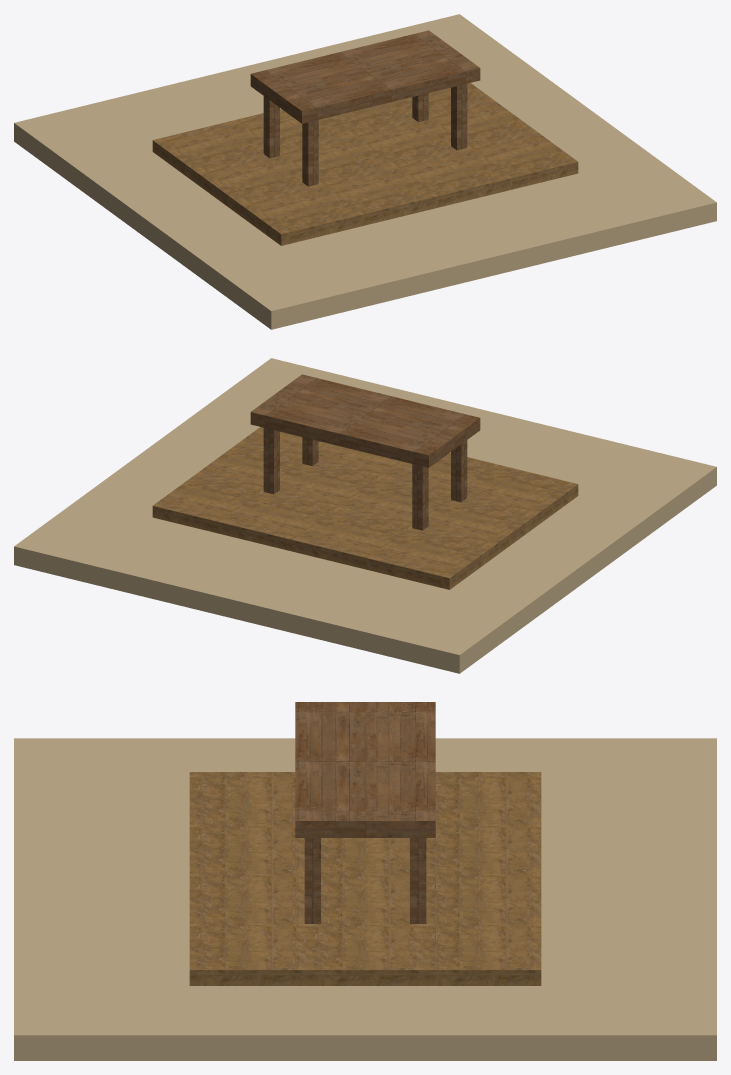
The model's file is tribunal.glb.
The picture shows the model from 3 angles, top to bottom: view 1: azimuth 30°, elevation 25°; view 2: azimuth 150°, elevation 25°; view 3: azimuth 270°, elevation 25°; orthographic projection. The views are drawn at different scales.
Visible parts, largest first — view 1: Base ilustrativa, Estrado do tribunal, Tampo, Pé.003, Pé.001, Pé; view 2: Base ilustrativa, Estrado do tribunal, Tampo, Pé.002, Pé, Pé.001; view 3: Base ilustrativa, Estrado do tribunal, Tampo, Pé.002, Pé.003.
Boxes of the visible parts, x1,y1,x2,y2 form: Base ilustrativa: (14,14,716,329); Estrado do tribunal: (152,83,578,245); Tampo: (250,30,480,123); Pé.003: (451,84,467,150); Pé.001: (302,120,318,186); Pé: (263,96,279,158); Base ilustrativa: (14,358,716,673); Estrado do tribunal: (152,427,578,589); Tampo: (250,374,480,467); Pé.002: (263,428,279,494); Pé: (412,464,428,530); Pé.001: (451,440,467,502); Base ilustrativa: (14,738,716,1060); Estrado do tribunal: (189,772,541,985); Tampo: (295,702,435,837); Pé.002: (410,838,426,923); Pé.003: (304,838,320,923).
Bounding box in the file's own units: 6 × 1.53 × 6.
Materials: 3 (2 with a texture image).
